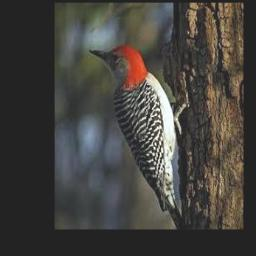Woodpecker: (89, 44, 185, 229)
